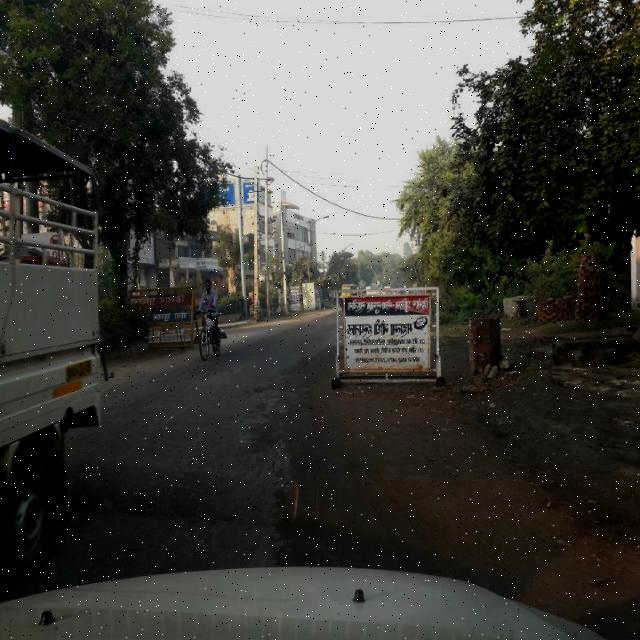D20: (146, 428, 308, 566)
